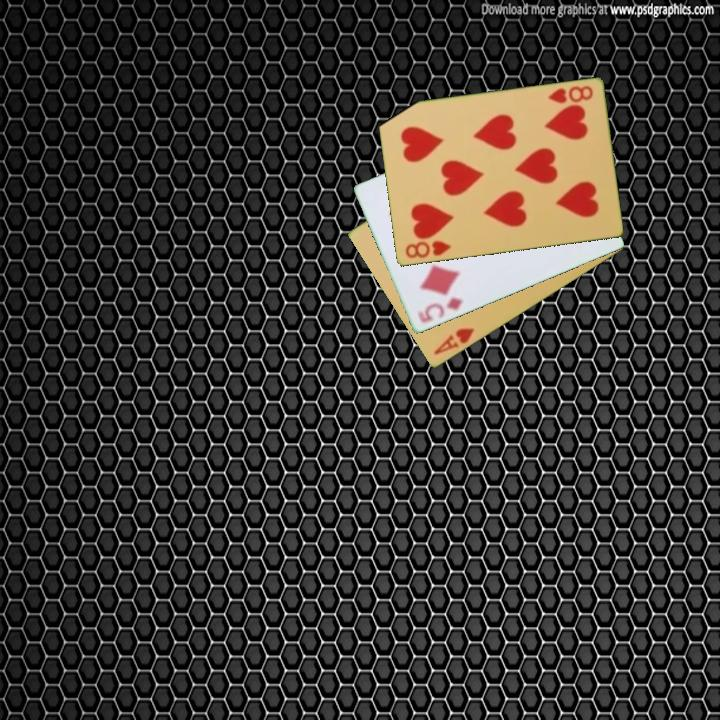5d: (414, 294, 466, 326)
8h: (544, 82, 595, 107), (401, 237, 453, 261)
Ah: (430, 325, 477, 358)
